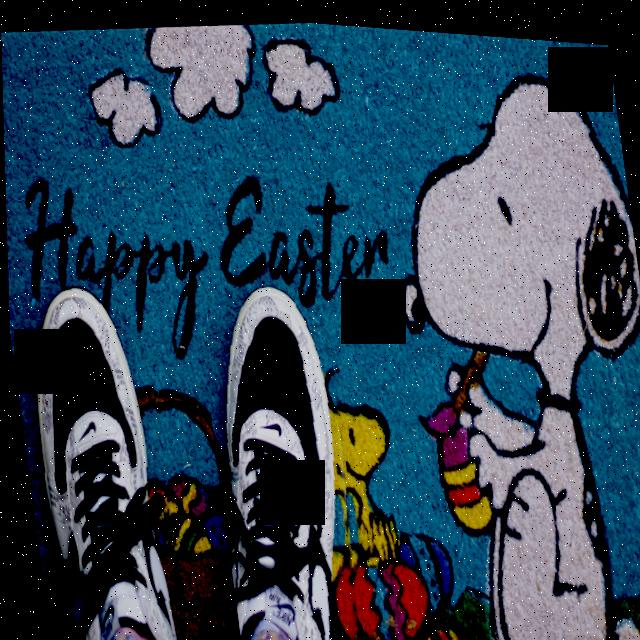shoe: (190, 260, 376, 640), (6, 256, 187, 640)
